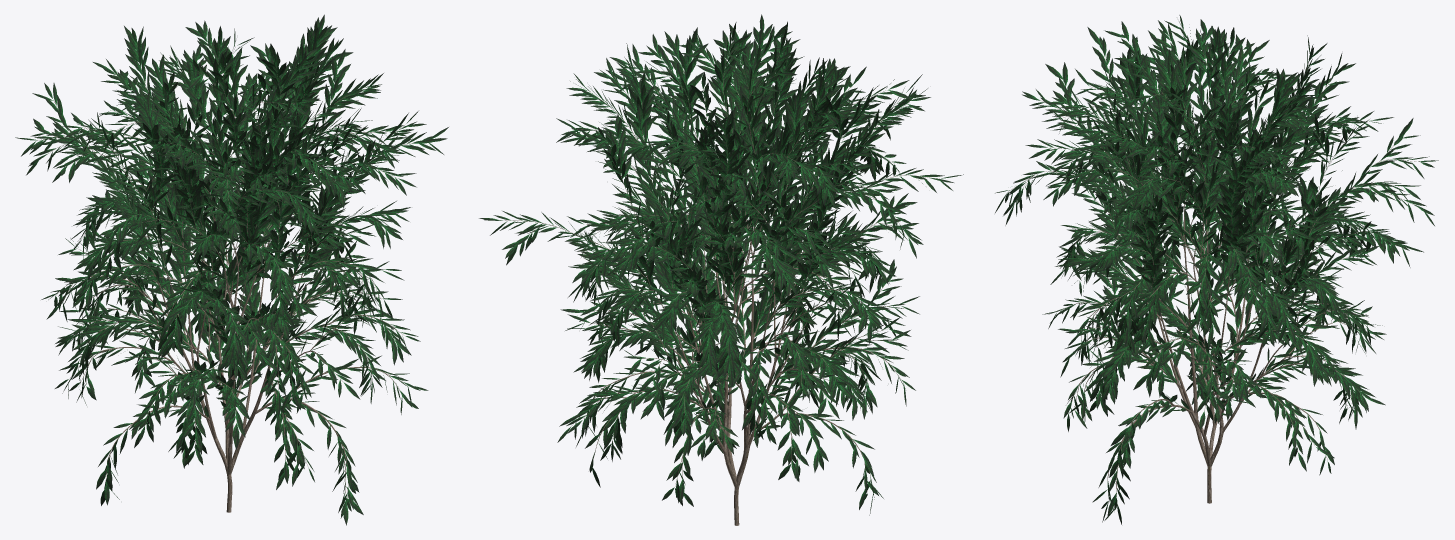
Rendered from plant5.fbx.
The picture shows the model from 3 angles, left to right: view 1: azimuth 30°, elevation 25°; view 2: azimuth 150°, elevation 25°; view 3: azimuth 270°, elevation 25°; orthographic projection. The views are drawn at different scales.
Parts seen in each view (by area): view 1: plant5; view 2: plant5; view 3: plant5.
Part boxes in pixels (box(x1,y1,x2,y2)): plant5: box(15, 14, 448, 525); plant5: box(479, 14, 963, 525); plant5: box(995, 15, 1438, 524).
Size of the model in its own units: 619 by 818 by 704.
Materials: 2 (2 with a texture image).
